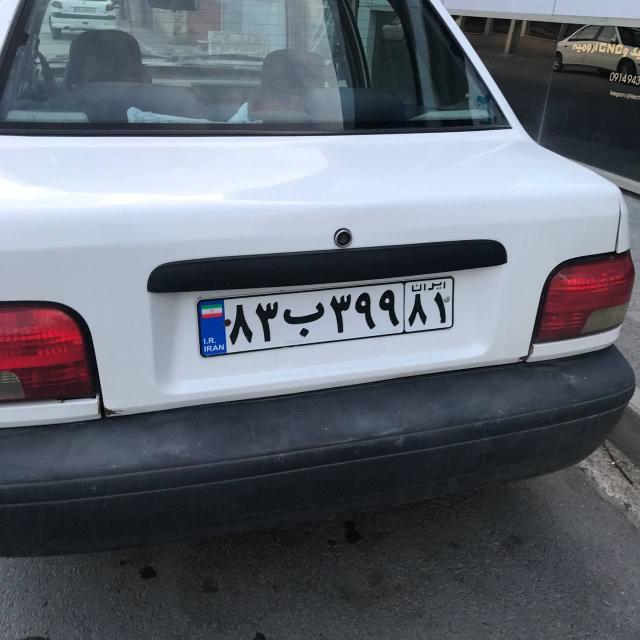Plates: (196, 271, 458, 356)
